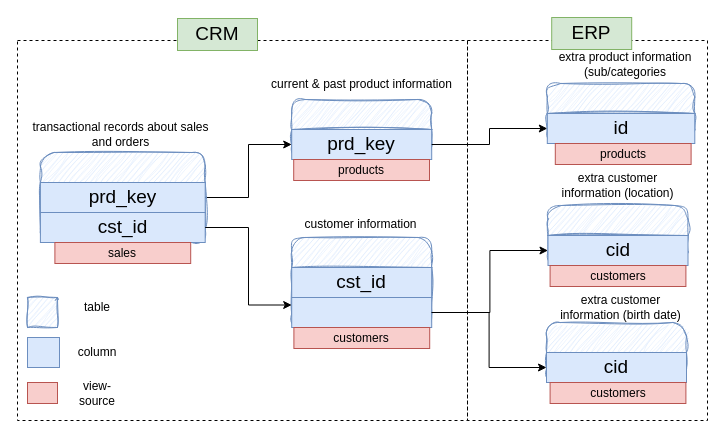
Image size: 725x438. Some labels were removed from this diagram. The shapes that lost their labels are listed below. From the top down, each one's box as (x1, y1, x2, y2) in pixels, then its label:
(291, 98, 432, 160): crm_prd_info
(546, 82, 695, 144): erp_px_cat_g1v2
(39, 152, 205, 242): crm_sales_details
(547, 204, 688, 266): erp_loc_a101
(291, 236, 432, 328): crm_cust_info
(291, 296, 432, 328): cst_key
(546, 322, 686, 382): erp_cust_az_12
